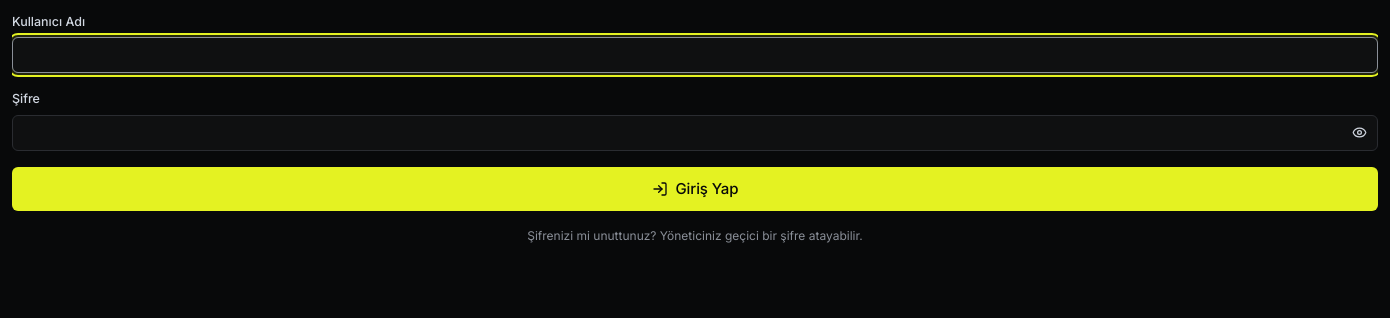
Scenario: LoginForm › falls back to a Turkish message when the server sends none
In the field labelled "Kullanıcı Adı": (695, 55) [12,37,1378,73], type "admin"
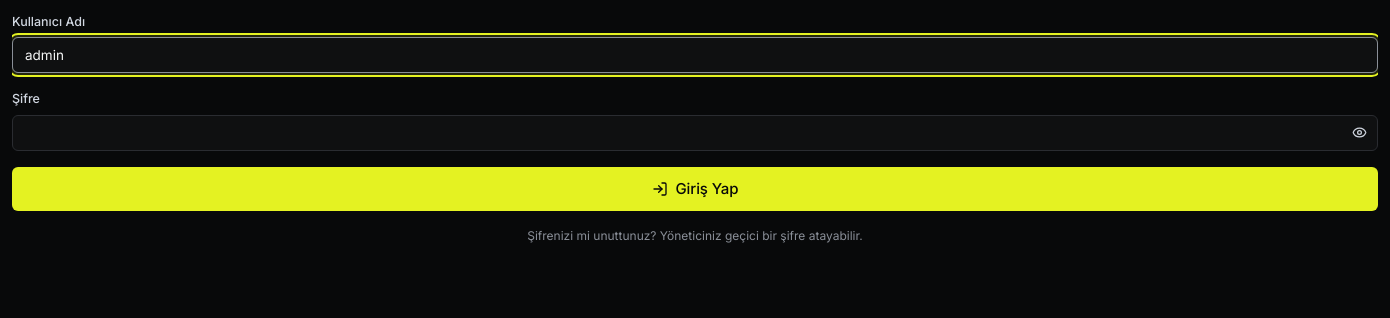
In the password field labelled "Şifre": (695, 133) [12,115,1378,151], type "whatever-pass"
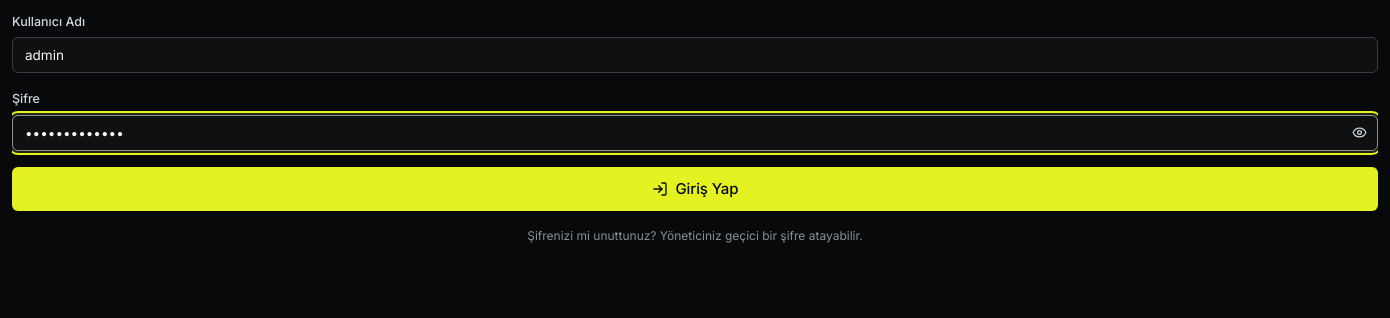
Click the button "Giriş Yap": (695, 189) [12,167,1378,211]
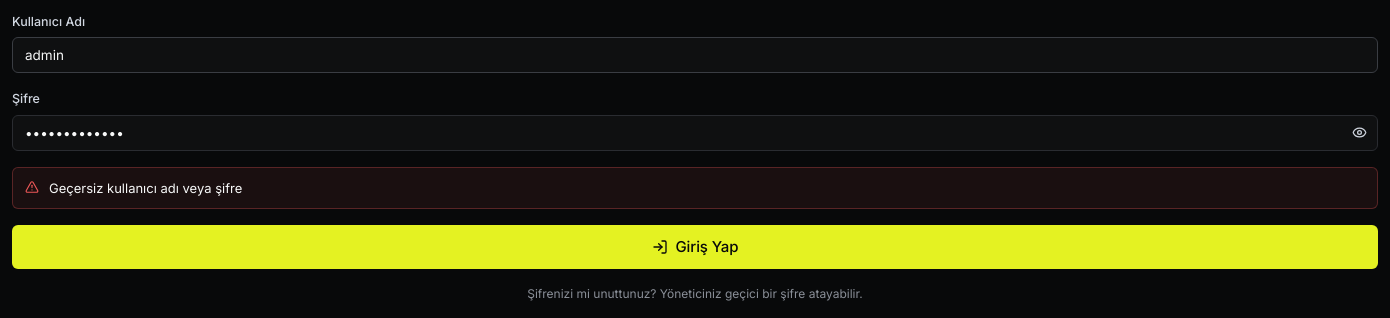
Expected: the text "Geçersiz kullanıcı adı veya şifre" is shown, [49,178,242,198]
